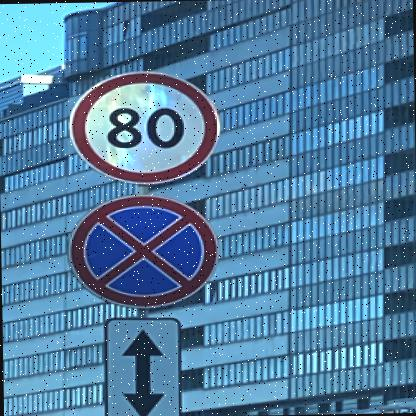speedlimit: (64, 69, 219, 184)
